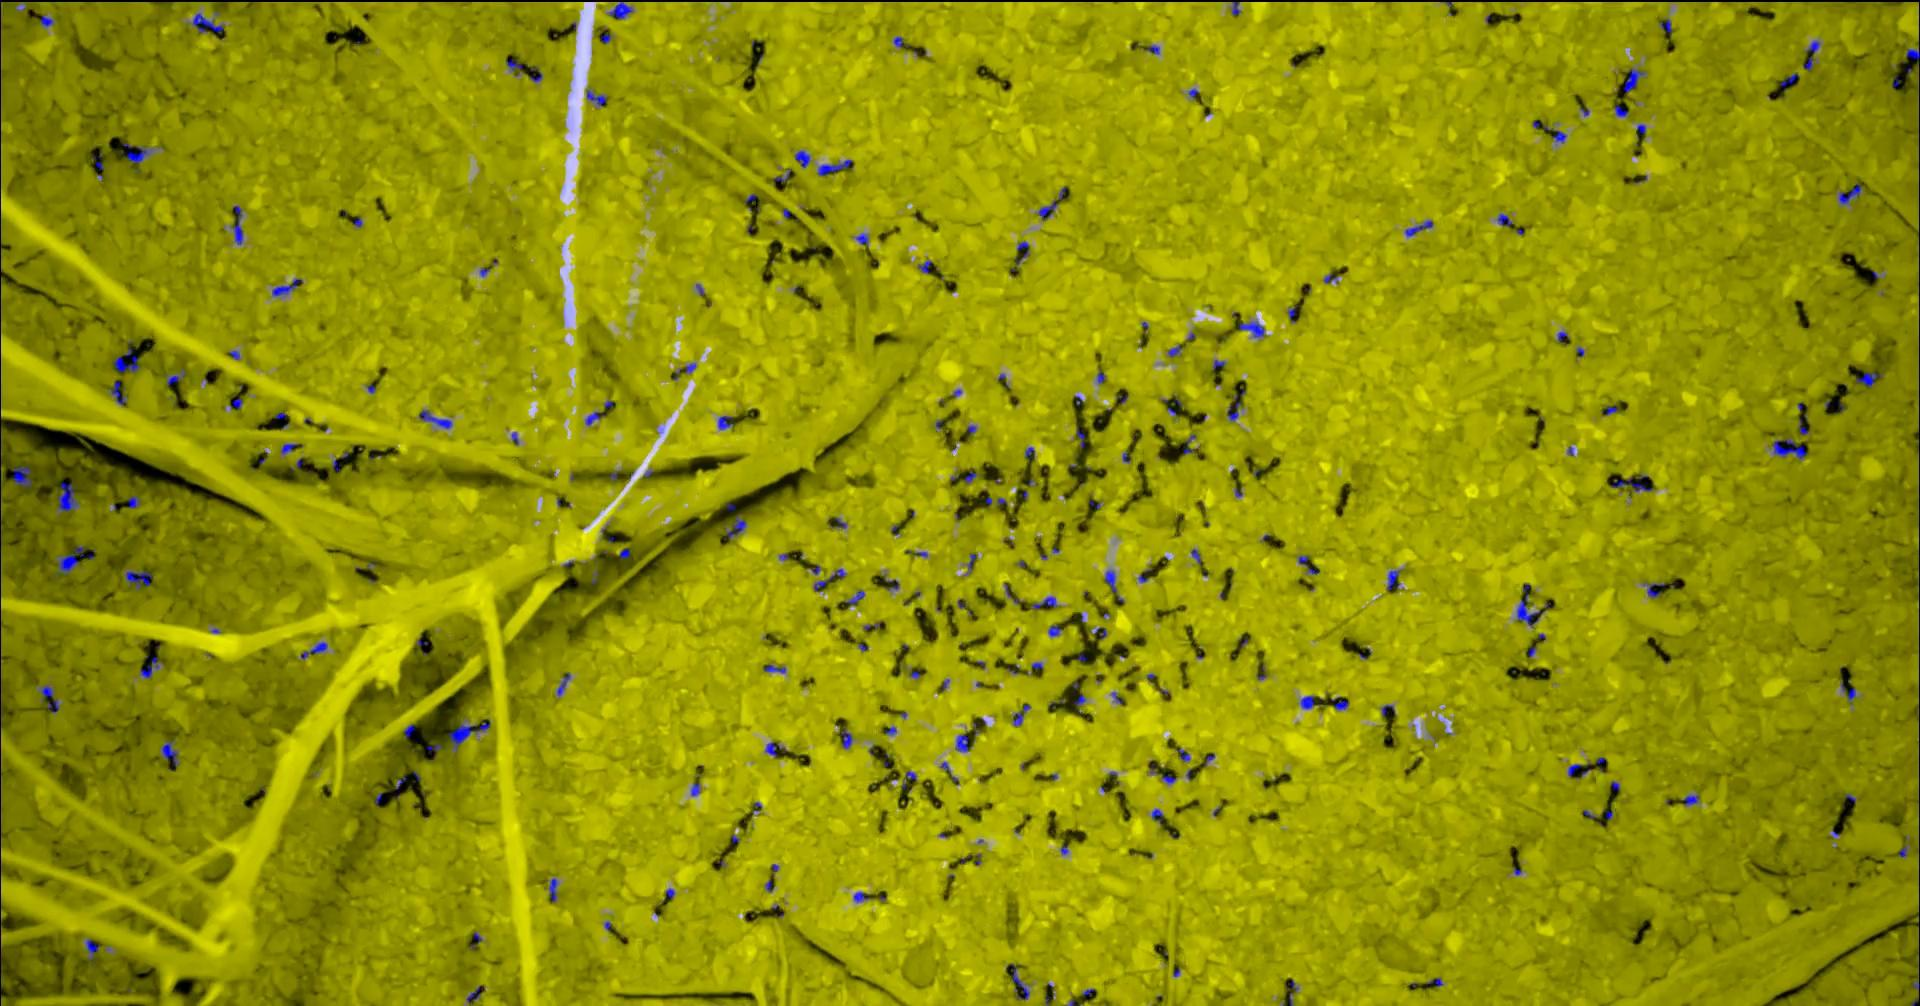ant: (1517, 583, 1550, 626), (450, 719, 491, 751), (58, 545, 97, 574), (1008, 963, 1031, 998), (1611, 474, 1655, 492), (1774, 437, 1808, 459), (815, 568, 847, 591), (116, 345, 141, 372), (58, 481, 80, 512), (420, 409, 453, 428), (122, 142, 151, 163), (819, 159, 855, 175), (41, 685, 61, 713), (1229, 389, 1247, 420), (194, 13, 223, 32), (1840, 180, 1863, 205), (1624, 69, 1647, 91), (126, 570, 152, 589), (1804, 39, 1821, 70), (273, 278, 303, 295), (141, 655, 163, 678), (728, 514, 748, 539), (302, 641, 329, 659), (1150, 765, 1177, 782), (1406, 220, 1434, 236), (610, 0, 635, 18), (232, 205, 244, 244), (163, 739, 179, 766), (1039, 199, 1059, 220), (1299, 555, 1321, 574), (1545, 124, 1568, 142), (1239, 321, 1266, 337), (1015, 704, 1032, 727), (1857, 372, 1884, 386), (14, 466, 33, 486), (110, 381, 127, 404), (1016, 240, 1031, 264), (766, 741, 787, 757), (1644, 582, 1667, 597), (1032, 596, 1059, 608), (588, 89, 608, 105), (557, 672, 571, 695), (1843, 680, 1857, 702), (88, 937, 102, 960), (1782, 72, 1801, 89), (1570, 762, 1591, 776), (168, 368, 185, 385), (587, 412, 607, 426), (1183, 433, 1197, 453), (507, 58, 524, 74), (903, 770, 918, 788), (847, 589, 866, 603), (1106, 570, 1117, 593), (1388, 569, 1401, 589), (796, 150, 811, 166), (469, 984, 483, 1002), (842, 729, 855, 748), (1907, 48, 1920, 66), (1332, 696, 1350, 709), (550, 876, 559, 901), (719, 415, 734, 429), (957, 734, 970, 751), (1683, 794, 1700, 805), (919, 260, 935, 273), (1153, 808, 1164, 824), (855, 890, 871, 902), (1498, 213, 1512, 226), (1049, 624, 1063, 636), (1302, 695, 1316, 708), (895, 36, 910, 47), (764, 664, 787, 672), (282, 443, 298, 453), (857, 232, 870, 245), (1661, 18, 1672, 32), (1617, 104, 1630, 116), (130, 495, 141, 508), (1233, 0, 1242, 15), (42, 15, 55, 25)
